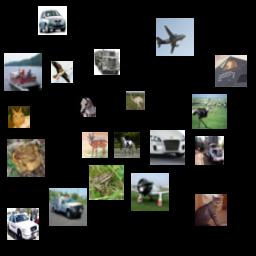airplane: (156, 18, 194, 56), (131, 173, 169, 211), (215, 55, 247, 87)
automobile: (150, 130, 185, 165), (7, 208, 39, 240), (38, 6, 67, 35)
bird: (192, 94, 227, 129), (51, 61, 73, 83), (126, 91, 145, 110)
cat: (195, 194, 227, 226), (8, 106, 30, 128)
deer: (82, 132, 108, 158)
frog: (7, 139, 45, 177), (89, 165, 124, 200)
ship: (4, 53, 42, 91)
truck: (49, 188, 87, 226), (195, 136, 224, 165), (94, 49, 120, 75)
